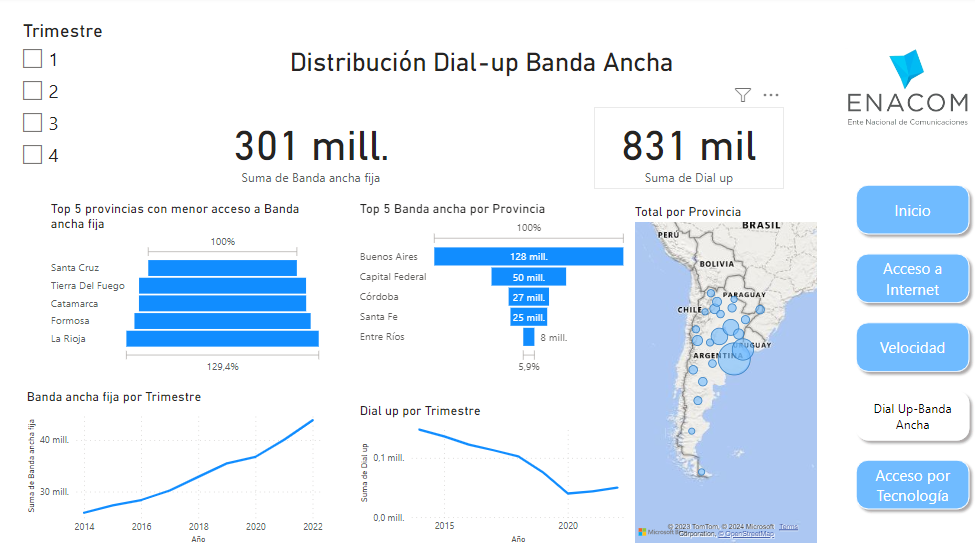

The page's visual inventory and layout, read from the dashboard file:
{"tool":"powerbi","page":{"name":"Dial Up-Banda Ancha","canvas":[1280,720],"ordinal":3},"visuals":[{"type":"pageNavigator","box":[1115.6,238.2,164.4,441.2],"z":0},{"type":"image","box":[1103.9,48.7,176.1,139.2],"z":1000},{"type":"card","fields":{"Values":["Sum(Dial-BAf.Banda ancha fija)"]},"box":[271.4,128.6,277.1,138.6],"z":2000},{"type":"card","fields":{"Values":["Sum(Dial-BAf.Dial up)"]},"box":[780,144.3,248.6,107.1],"z":3000},{"type":"map","title":"Total por Provincia","fields":{"Category":["Dial-BAf.Provincia"],"Size":["Sum(Dial-BAf.Total)"]},"box":[828.6,271.4,248.6,448.6],"z":4000},{"type":"lineChart","title":"Banda ancha fija por Trimestre","fields":{"Y":["Sum(Dial-BAf.Banda ancha fija)"],"Category":["Dial-BAf.Año"]},"box":[32.9,512.9,397.1,207.1],"z":5000},{"type":"lineChart","title":"Dial up por Trimestre","fields":{"Y":["Sum(Dial-BAf.Dial up)"],"Category":["Dial-BAf.Año"]},"box":[468.6,531.4,360,188.6],"z":6000},{"type":"funnel","title":"Top 5 provincias con menor acceso a Banda ancha fija","fields":{"Category":["Dial-BAf.Provincia"],"Y":["Sum(Dial-BAf.Banda ancha fija)"]},"box":[64.3,267.1,365.7,230],"z":7000},{"type":"funnel","title":"Top 5 Banda ancha por Provincia","fields":{"Category":["Dial-BAf.Provincia"],"Y":["Sum(Dial-BAf.Banda ancha fija)"]},"box":[468.6,267.1,360,231.4],"z":8000},{"type":"textbox","box":[377.5,60.4,526.8,58.7],"z":9000},{"type":"slicer","fields":{"Values":["Dial-BAf.Trimestre"]},"box":[20,24.3,180,215.7],"z":10000}]}

Visuals, with their boxes in screenshot pixels (x1, y1, x2, y2), scaled from the page's 1280x720 canvas onto the 975x547 screenshot:
pageNavigator: rect(850, 181, 974, 516)
image: rect(841, 37, 974, 143)
card - Sum(Dial-BAf.Banda ancha fija): rect(207, 98, 418, 203)
card - Sum(Dial-BAf.Dial up): rect(594, 110, 784, 191)
"Total por Provincia" map: rect(631, 206, 821, 546)
"Banda ancha fija por Trimestre" lineChart: rect(25, 390, 328, 546)
"Dial up por Trimestre" lineChart: rect(357, 404, 631, 546)
"Top 5 provincias con menor acceso a Banda ancha fija" funnel: rect(49, 203, 328, 378)
"Top 5 Banda ancha por Provincia" funnel: rect(357, 203, 631, 379)
textbox: rect(288, 46, 689, 90)
slicer - Dial-BAf.Trimestre: rect(15, 18, 152, 182)
